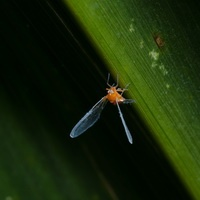insect: (70, 73, 134, 143)
